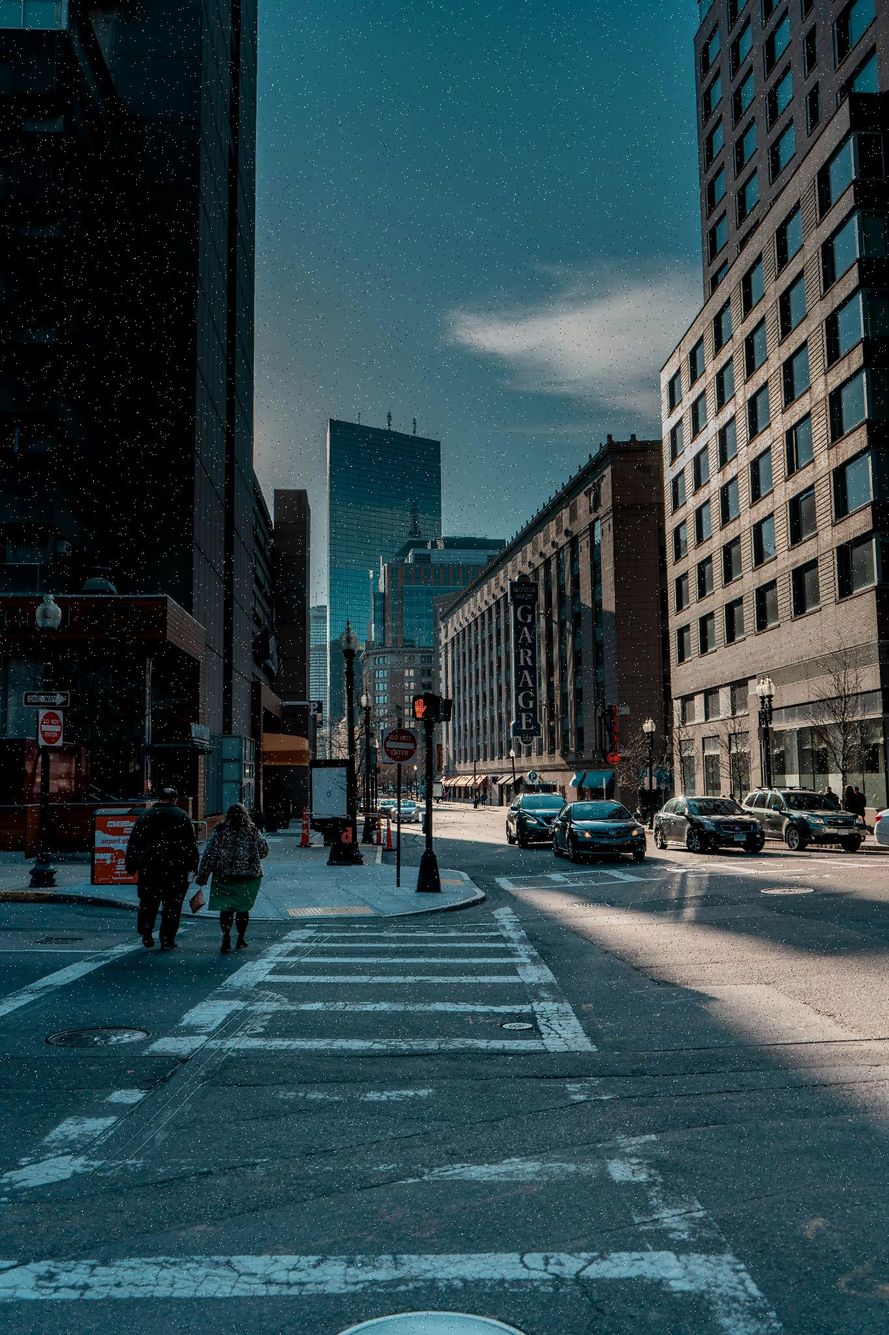car: (743, 783, 862, 851), (656, 797, 766, 861), (550, 799, 647, 864), (507, 792, 569, 849), (392, 801, 423, 828)
pedestrian: (128, 793, 203, 956), (201, 806, 271, 957)
